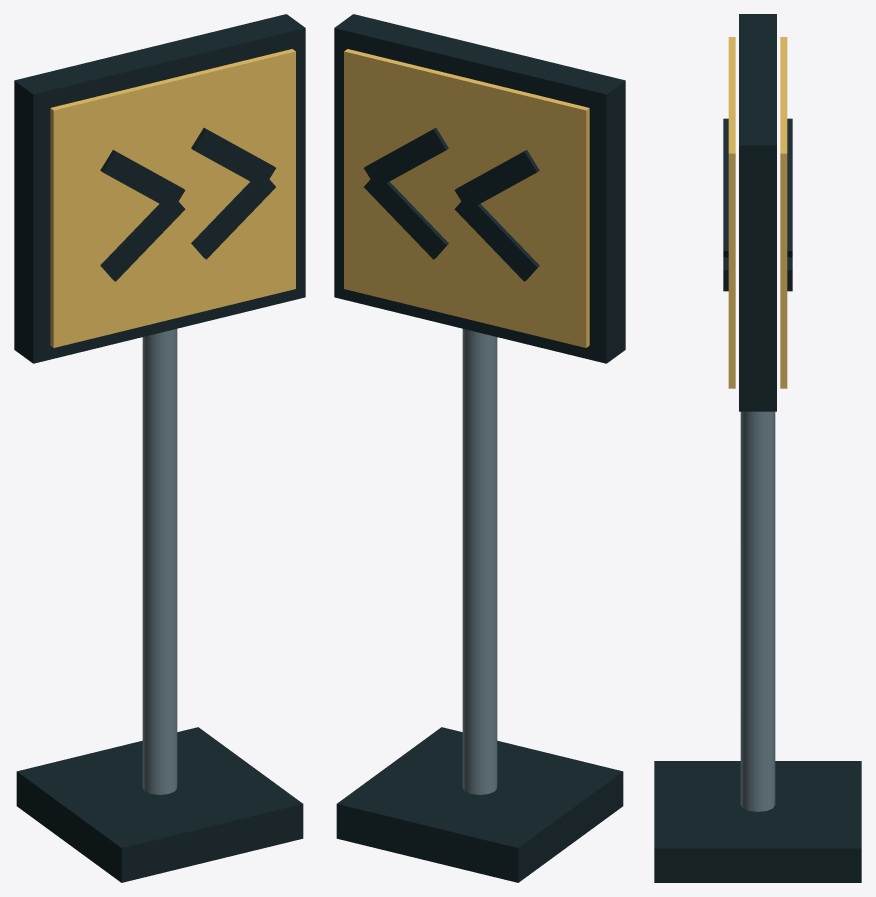
The model's file is route-plow-post.glb.
3 renders of one model, left to right at view 1: azimuth 30°, elevation 25°; view 2: azimuth 150°, elevation 25°; view 3: azimuth 270°, elevation 25°, orthographic.
Parts seen in each view (by area): view 1: route-plow-post; view 2: route-plow-post; view 3: route-plow-post.
Boxes of the visible parts, x1,y1,x2,y2 form: route-plow-post: (14,14,305,882); route-plow-post: (334,14,625,882); route-plow-post: (654,14,861,882).
Size of the model in its own units: 1.8 by 4.85 by 1.2.
